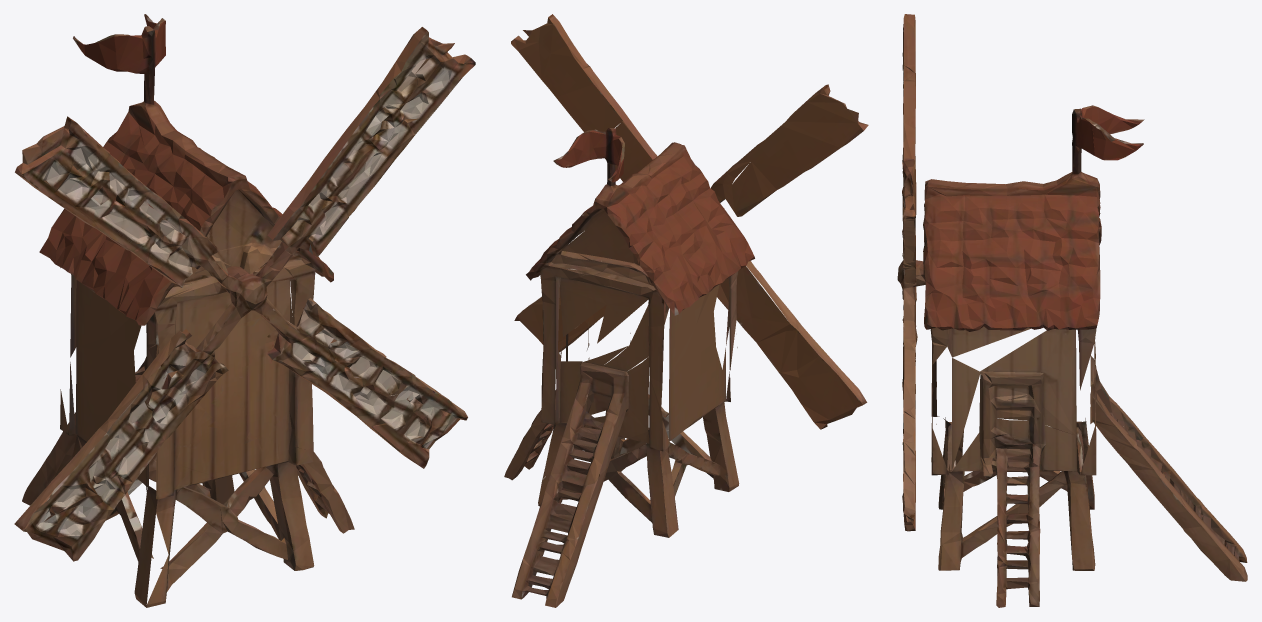
Rendered from windmill_hill_b.glb.
The picture shows the model from 3 angles, left to right: view 1: azimuth 30°, elevation 25°; view 2: azimuth 150°, elevation 25°; view 3: azimuth 270°, elevation 25°; orthographic projection. The views are drawn at different scales.
Parts seen in each view (by area): view 1: geometry_0; view 2: geometry_0; view 3: geometry_0.
Part boxes in pixels (x1,y1,x2,y2): geometry_0: (14, 14, 475, 607); geometry_0: (504, 14, 868, 607); geometry_0: (897, 14, 1247, 607).
Bounding box in the file's own units: 2.52 × 3 × 1.96.
1 material, 1 textured.
